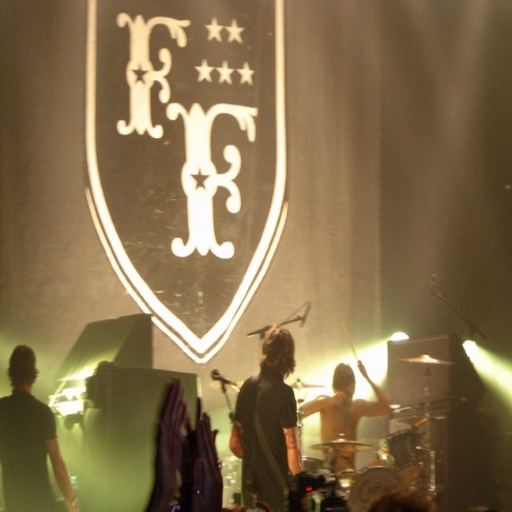hand: (354, 358, 367, 379), (66, 502, 79, 509)
